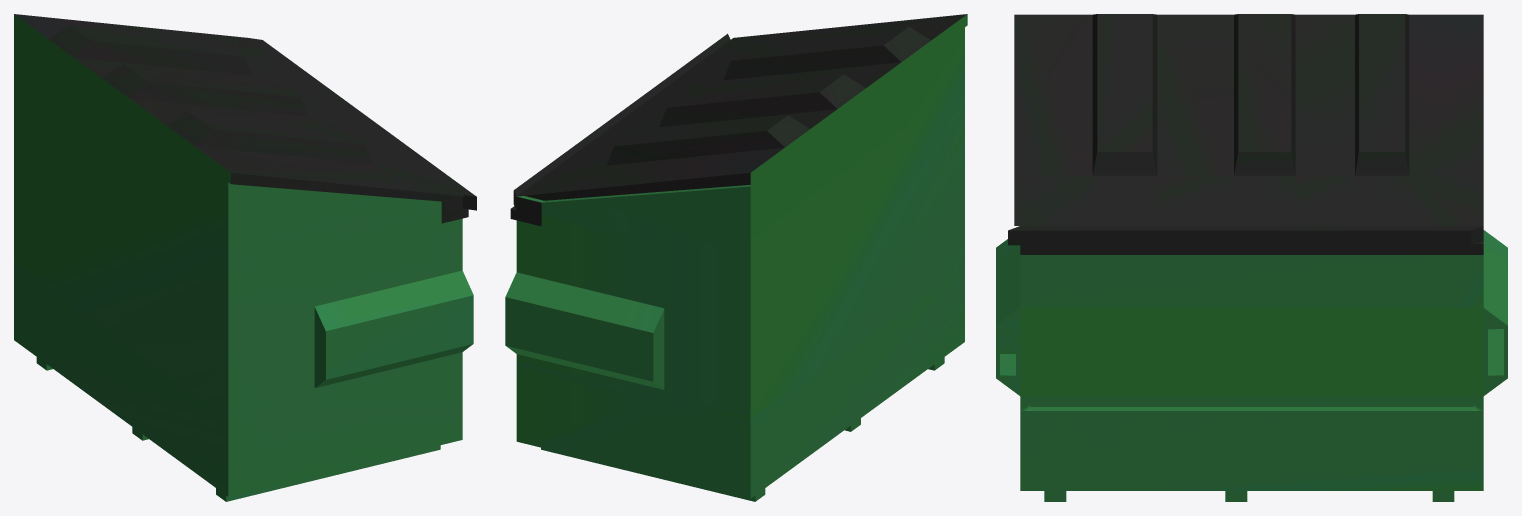
The model's file is Dumpster.fbx.
3 views of the same model, side by side, from view 1: azimuth 30°, elevation 25°; view 2: azimuth 150°, elevation 25°; view 3: azimuth 270°, elevation 25° (orthographic). The views are drawn at different scales.
Visible parts, largest first — view 1: Dumpster; view 2: Dumpster; view 3: Dumpster.
Part boxes in pixels (x1,y1,x2,y2): Dumpster: (14, 14, 476, 501); Dumpster: (505, 14, 967, 501); Dumpster: (996, 14, 1507, 501).
Size of the model in its own units: 131 by 182 by 222.
